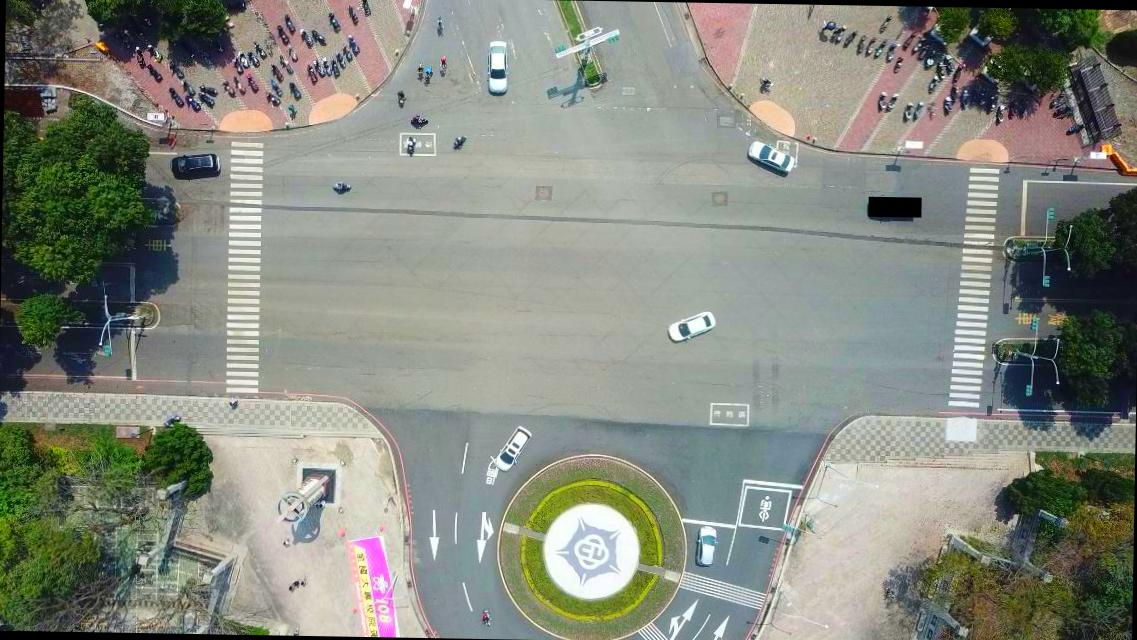vehicle: (494, 424, 532, 474), (666, 310, 717, 342), (746, 142, 796, 173), (170, 153, 221, 179), (487, 40, 509, 96), (694, 526, 718, 568)
